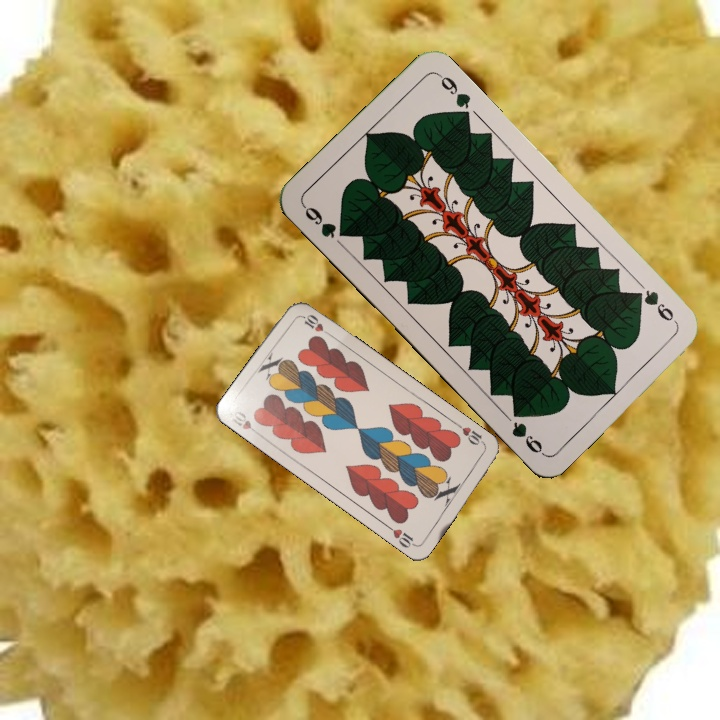G9: (629, 285, 680, 327), (298, 201, 351, 241)
H10: (225, 407, 263, 438), (458, 423, 488, 449)
